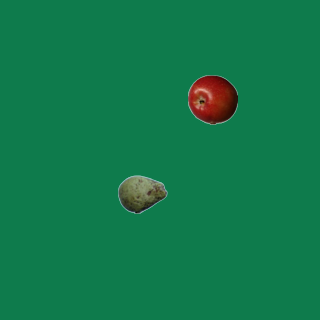Apple Braeburn: (187, 74, 237, 124)
Pear Stone: (117, 169, 167, 219)
